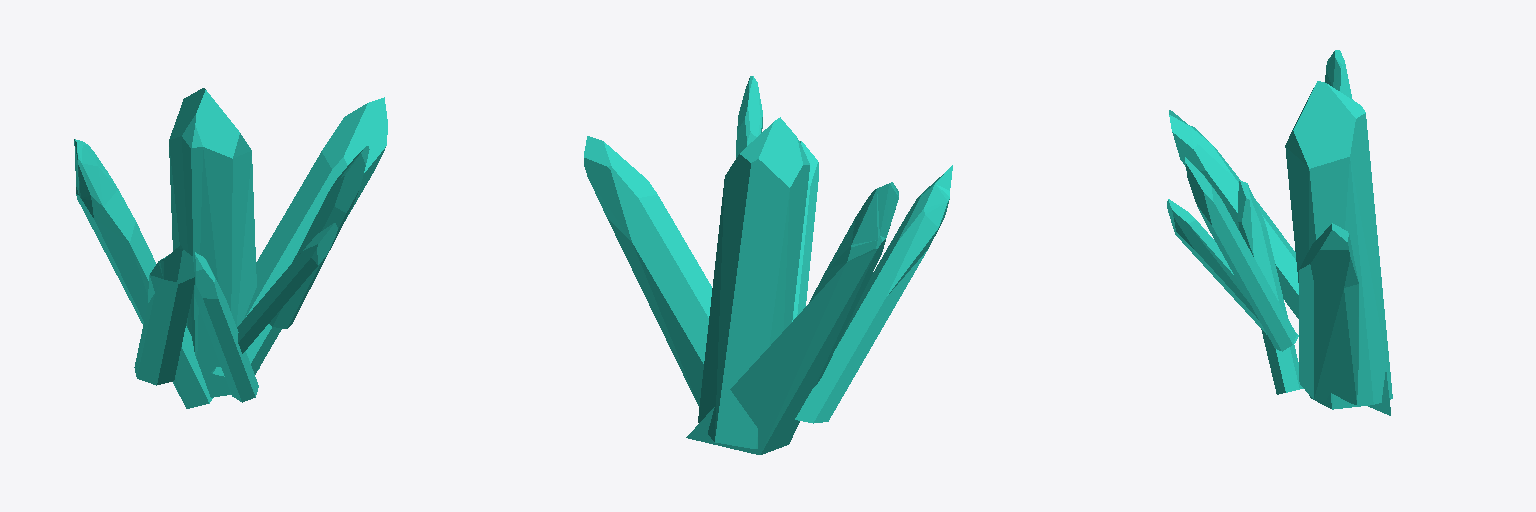
Rendered from crystal-1.obj.
3 renders of one model, left to right at view 1: azimuth 30°, elevation 25°; view 2: azimuth 150°, elevation 25°; view 3: azimuth 270°, elevation 25°, orthographic.
Visible parts, largest first — view 1: Cylinder; view 2: Cylinder; view 3: Cylinder.
Boxes of the visible parts, x1,y1,x2,y2 form: Cylinder: [74, 88, 387, 408]; Cylinder: [584, 76, 952, 454]; Cylinder: [1167, 50, 1392, 415].
Bounding box in the file's own units: 7.91 × 7.83 × 5.